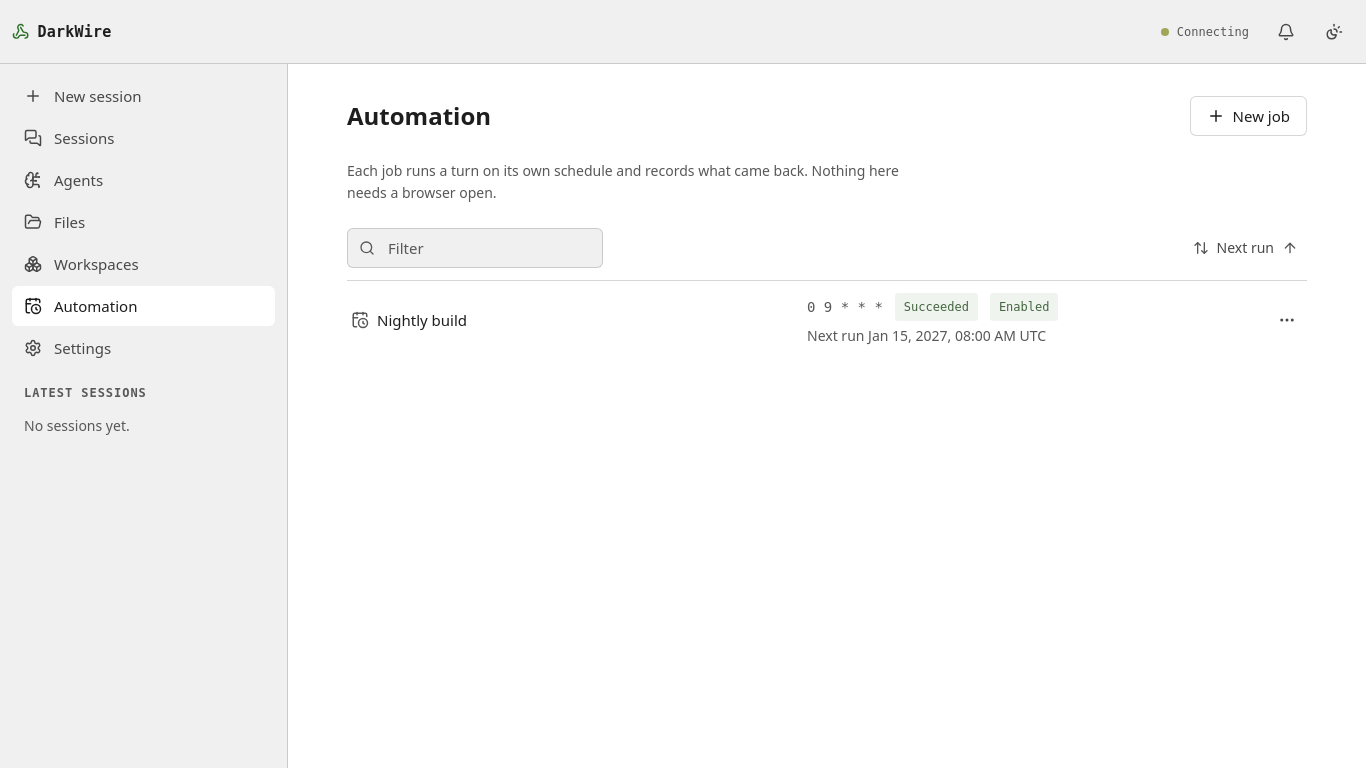
the Automation page › filters the list without asking the server again
This screenshot has width=1366, height=768.
expect the list named "Automation" is shown: met, box [347, 281, 1307, 359]
Type "nothing" into the search field named "Filter jobs" at (475,248), box [347, 228, 603, 268]
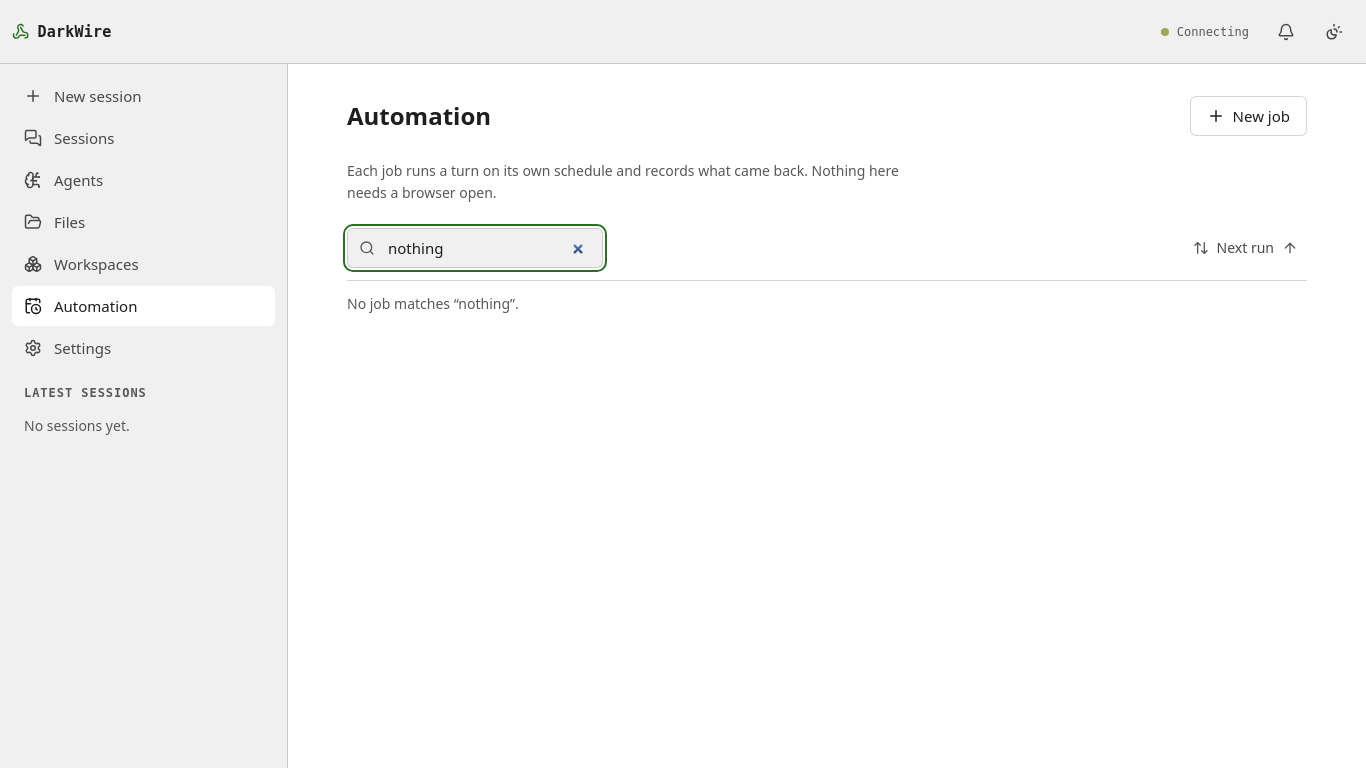
expect the text "No job matches “nothing”." is shown: met, box [347, 294, 519, 313]
